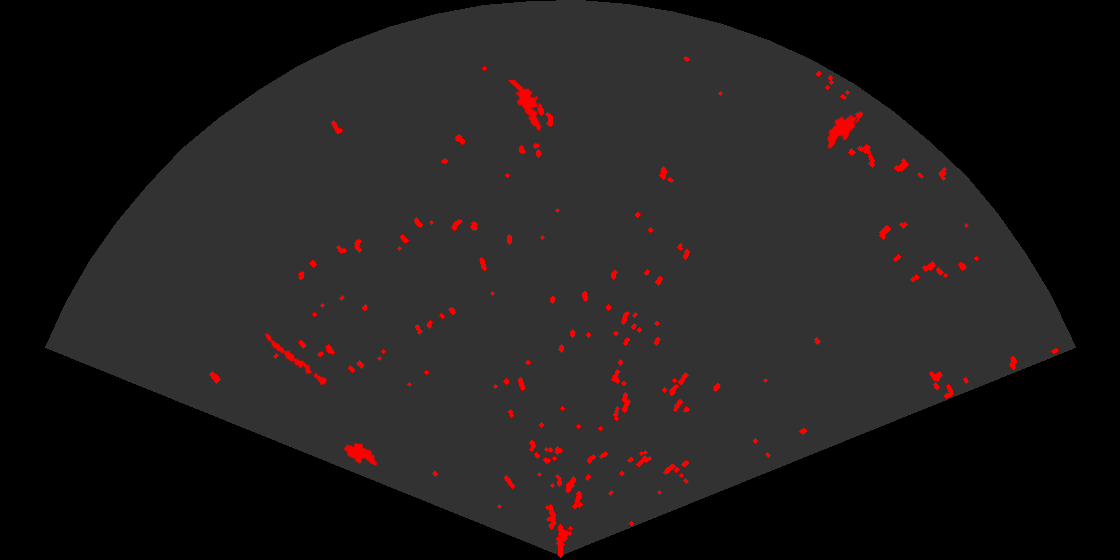AUV: (825, 113, 858, 151), (342, 441, 379, 467)
chain: (263, 332, 332, 390)
frogman: (506, 80, 543, 133)
